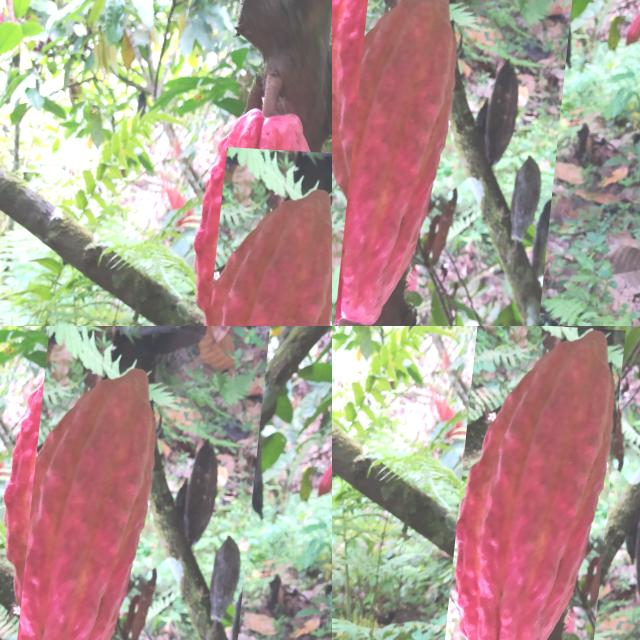Fitoftora: (632, 522, 640, 556)
Monilia: (14, 326, 277, 640), (345, 0, 586, 326), (204, 143, 332, 326)
Sana: (454, 326, 630, 640)
